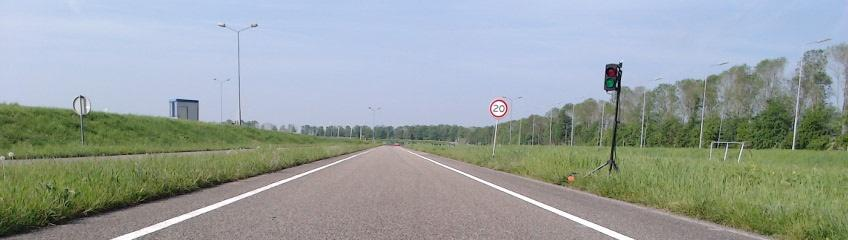Speed-limit-20km-h-: (489, 98, 508, 119)
TrafficLight-green: (604, 63, 618, 91)
